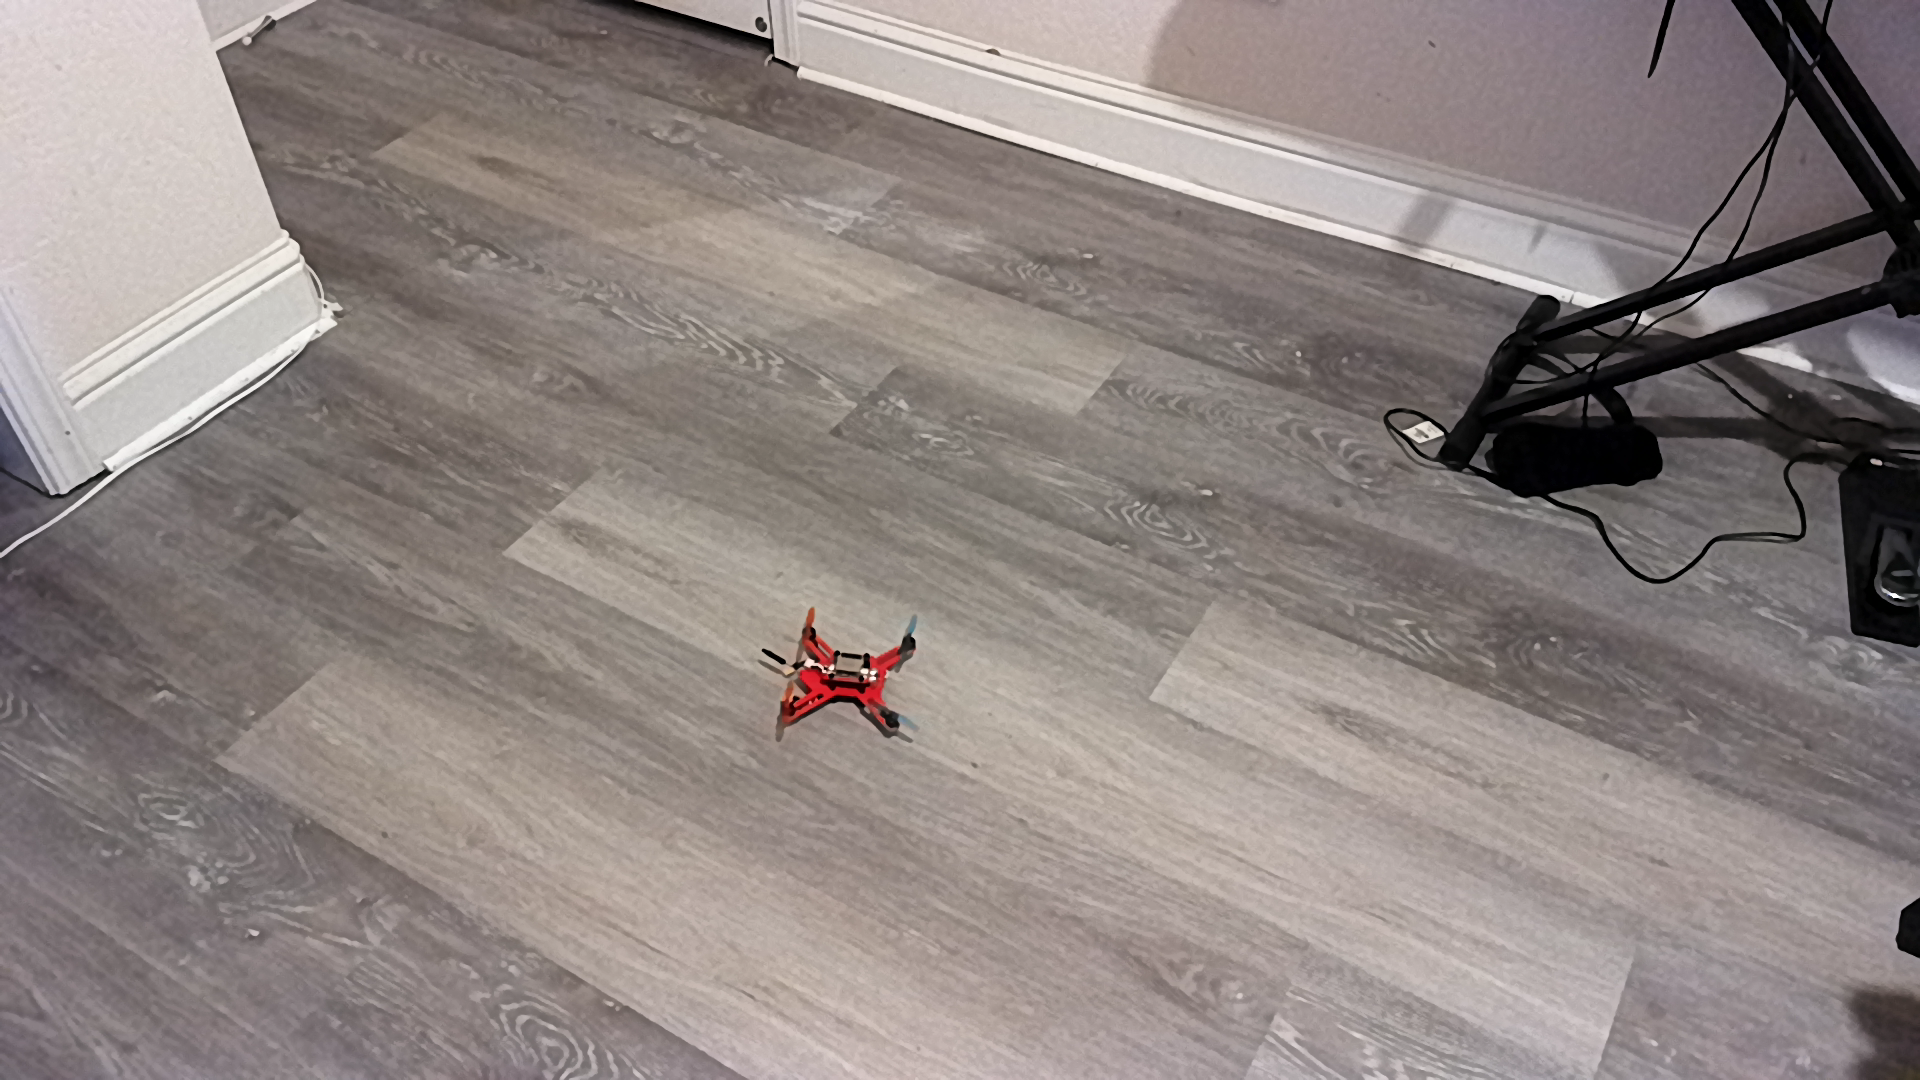drone: (750, 604, 956, 742)
